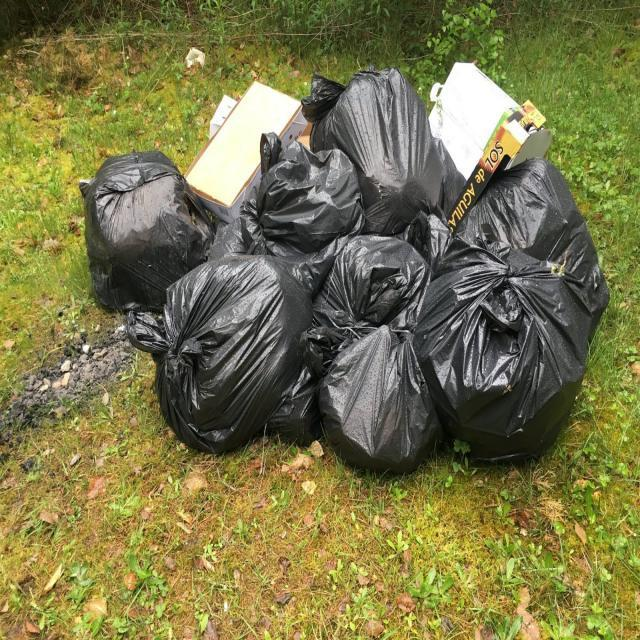high trash: (82, 64, 609, 473)
